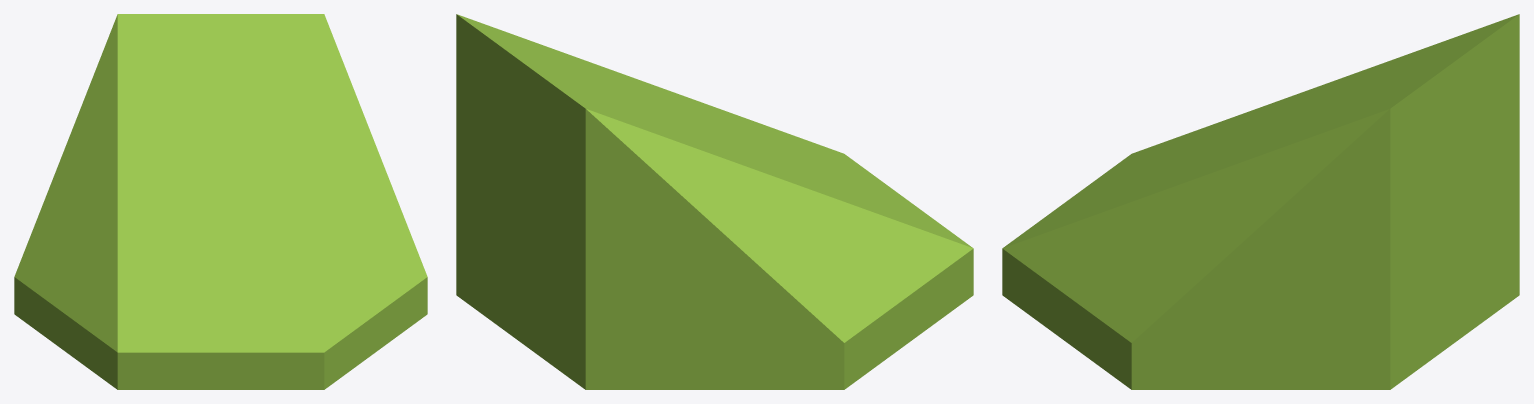
3 views of the same model, side by side, from view 1: azimuth 30°, elevation 25°; view 2: azimuth 150°, elevation 25°; view 3: azimuth 270°, elevation 25° (orthographic). The views are drawn at different scales.
Visible parts, largest first — view 1: VaromaStairTile; view 2: VaromaStairTile; view 3: VaromaStairTile.
Part boxes in pixels (x1,y1,x2,y2): VaromaStairTile: (14, 14, 427, 389); VaromaStairTile: (456, 14, 973, 389); VaromaStairTile: (1002, 14, 1519, 389).
Bounding box in the file's own units: 1.73 × 1.2 × 2.
Materials: 1 (1 with a texture image).
